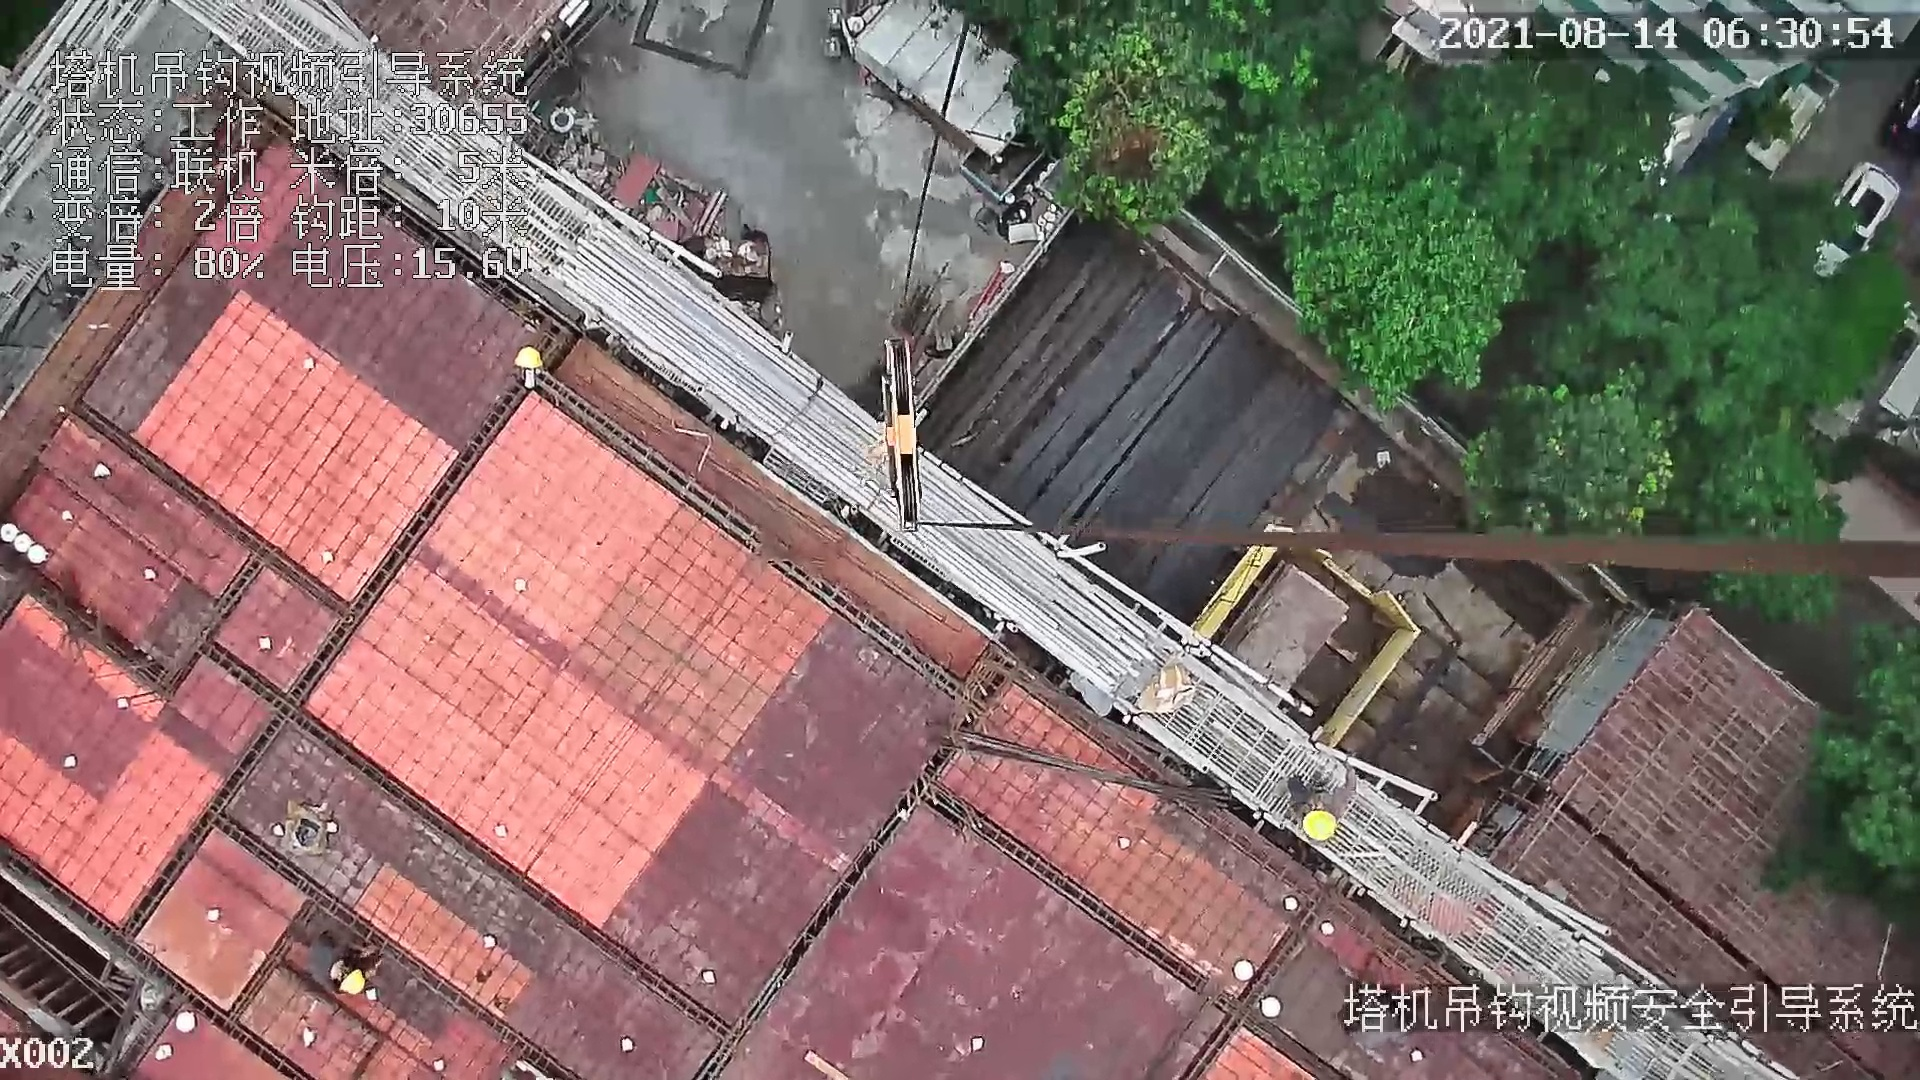helmet: (1299, 809, 1340, 842), (511, 345, 547, 369), (338, 969, 365, 996)
hook: (874, 333, 922, 532)
person: (1285, 751, 1354, 849), (305, 935, 372, 999)
rebar: (932, 208, 1349, 622)
